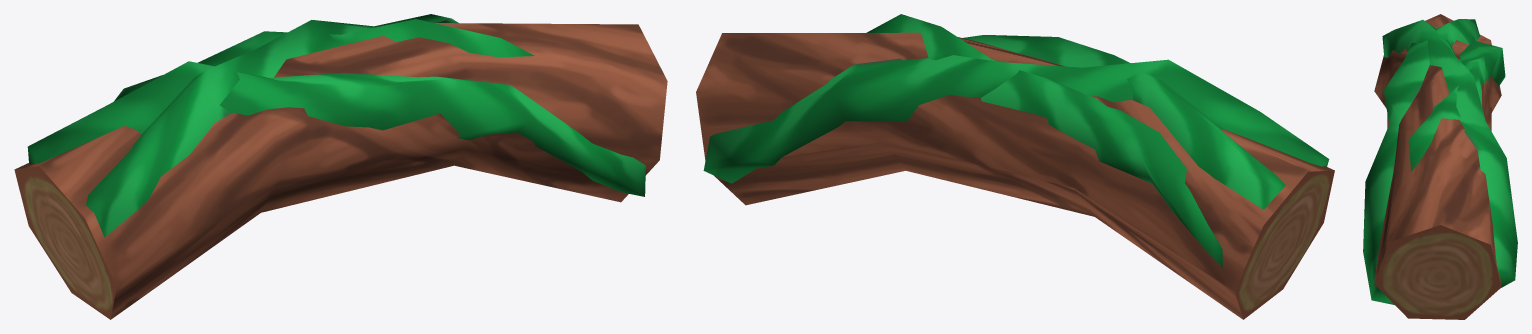
File: jungleLog -2.fbx
3 views of the same model, side by side, from view 1: azimuth 30°, elevation 25°; view 2: azimuth 150°, elevation 25°; view 3: azimuth 270°, elevation 25° (orthographic). The views are drawn at different scales.
Parts seen in each view (by area): view 1: jungleLog -2; view 2: jungleLog -2; view 3: jungleLog -2.
Boxes of the visible parts, left/top/right/bottom form: jungleLog -2: left=14, top=14, right=667, bottom=319; jungleLog -2: left=696, top=14, right=1334, bottom=319; jungleLog -2: left=1363, top=14, right=1517, bottom=319.
Bounding box in the file's own units: 161 × 50.86 × 58.16.
Materials: 1 (1 with a texture image).
